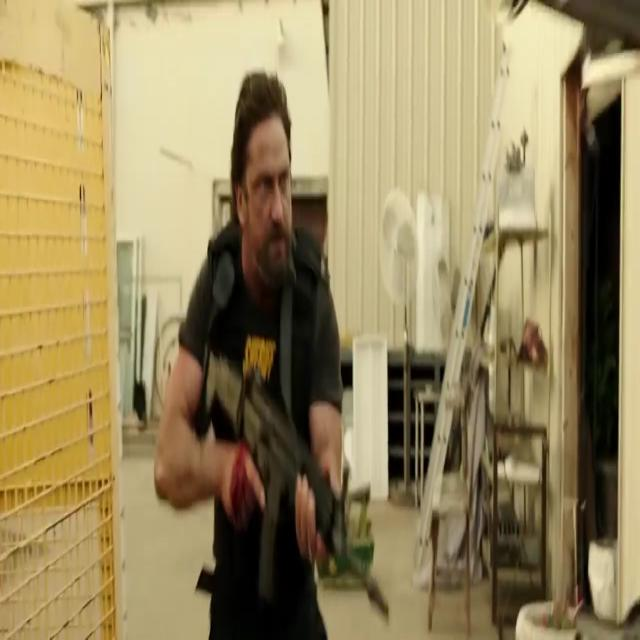Weapon: (205, 352, 399, 614)
